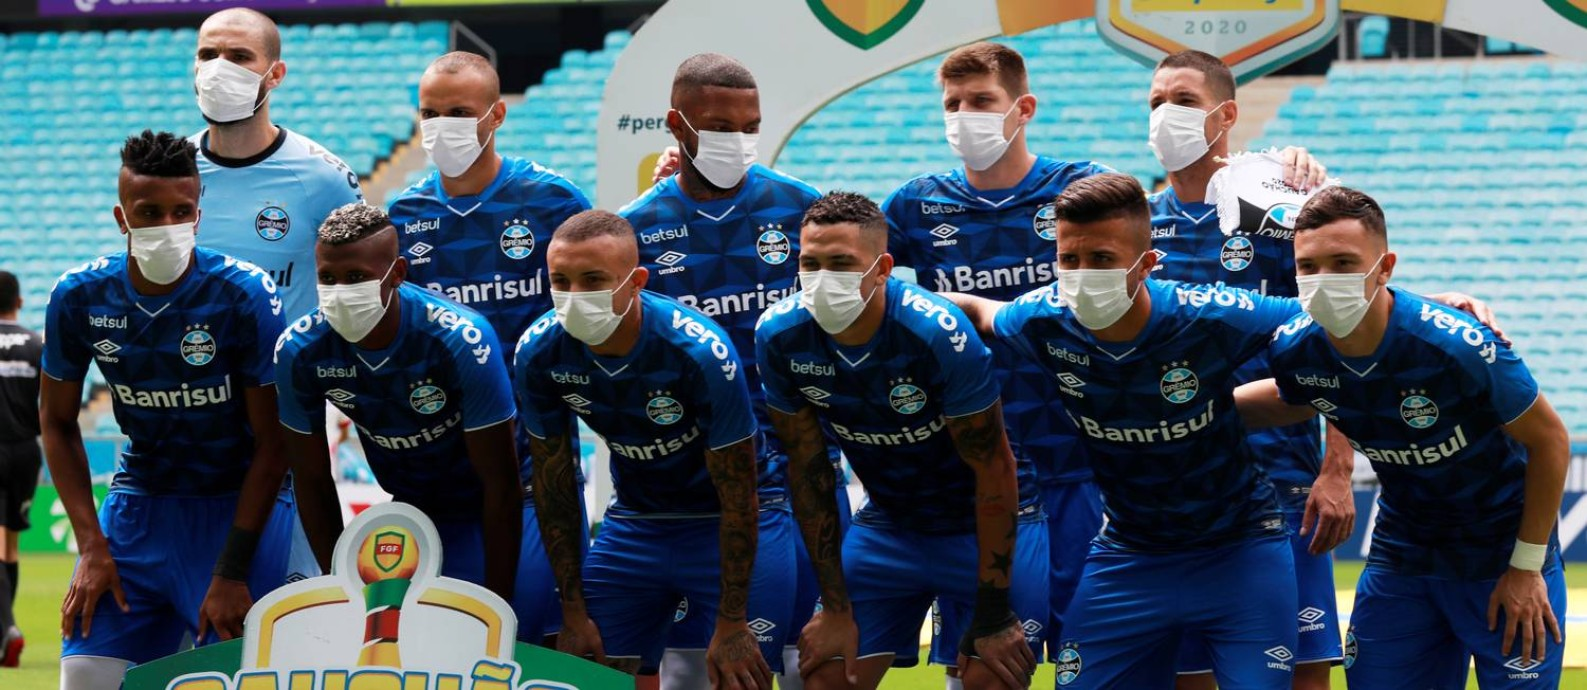with_mask: (1043, 202, 1155, 328), (302, 217, 409, 345), (546, 223, 647, 342), (107, 165, 209, 282), (670, 72, 766, 193), (1286, 224, 1389, 331), (796, 226, 889, 334), (189, 18, 283, 122), (938, 70, 1029, 170), (419, 78, 504, 180), (1142, 63, 1222, 166)
